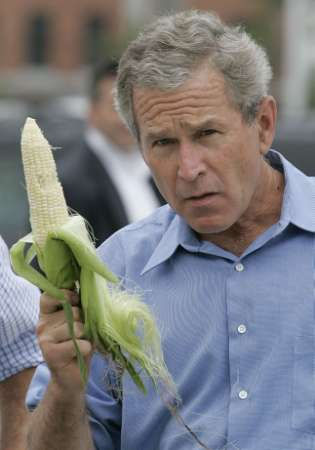corn: (10, 115, 180, 408)
